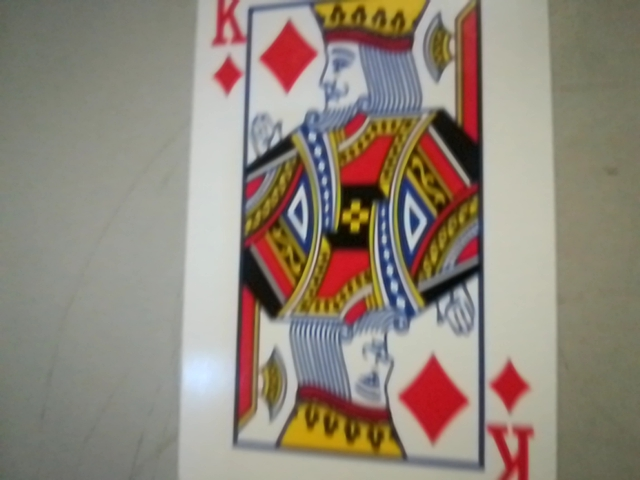fk k: (476, 358, 549, 480)
